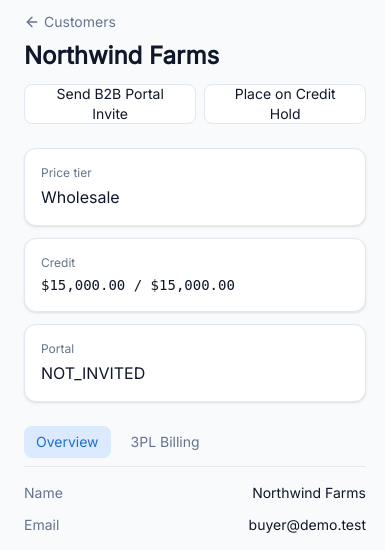
Test case: CustomerWorkspacePage portal invite › toasts the Problem Details detail when credit hold fails
The width and height of the screenshot is (385, 550).
expect the heading "Northwind Farms" is shown: met, box [24,40,219,72]
Click the button with test id "customer-credit-hold" at x=285, y=104, box [204,84,366,124]
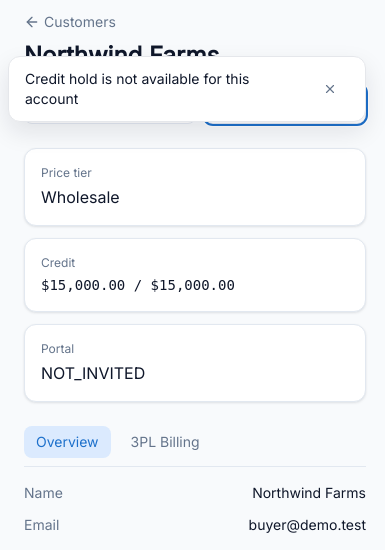
expect the message with test id "app-toast" reads "Credit hold is not available for this account": met, box [25,70,249,107]
